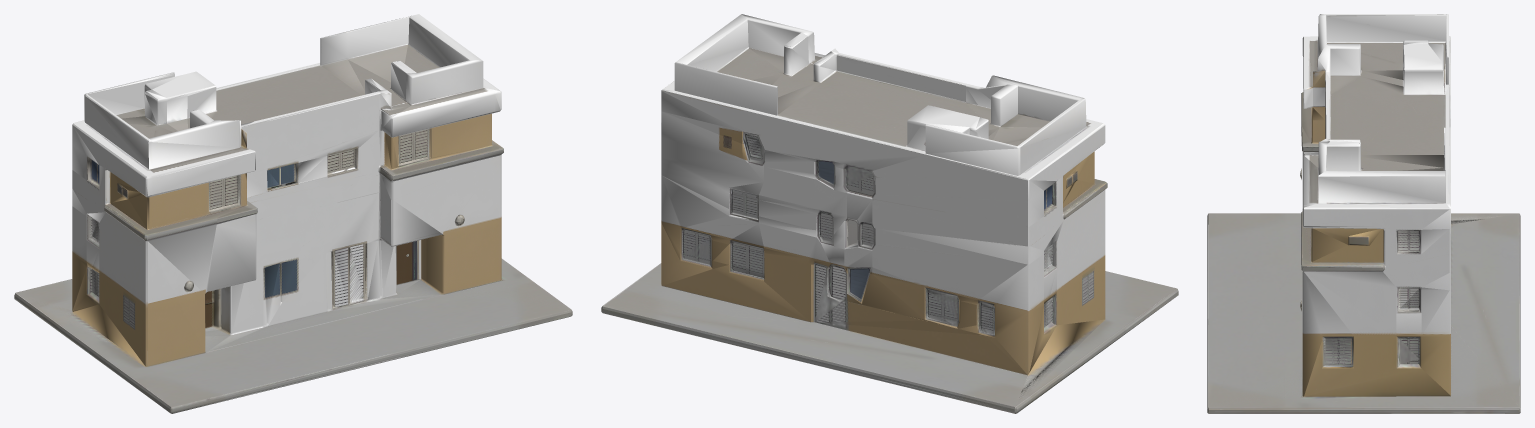
The model's file is placed_bld_556597976.glb.
3 views of the same model, side by side, from view 1: azimuth 30°, elevation 25°; view 2: azimuth 150°, elevation 25°; view 3: azimuth 270°, elevation 25° (orthographic). The views are drawn at different scales.
Parts seen in each view (by area): view 1: bld_556597976; view 2: bld_556597976; view 3: bld_556597976.
Boxes of the visible parts, x1=… form: bld_556597976: x1=14, y1=14, x2=572, y2=413; bld_556597976: x1=601, y1=14, x2=1178, y2=413; bld_556597976: x1=1207, y1=14, x2=1520, y2=413.
Size of the model in its own units: 15.42 by 8.2 by 10.45.
Materials: 1 (1 with a texture image).
